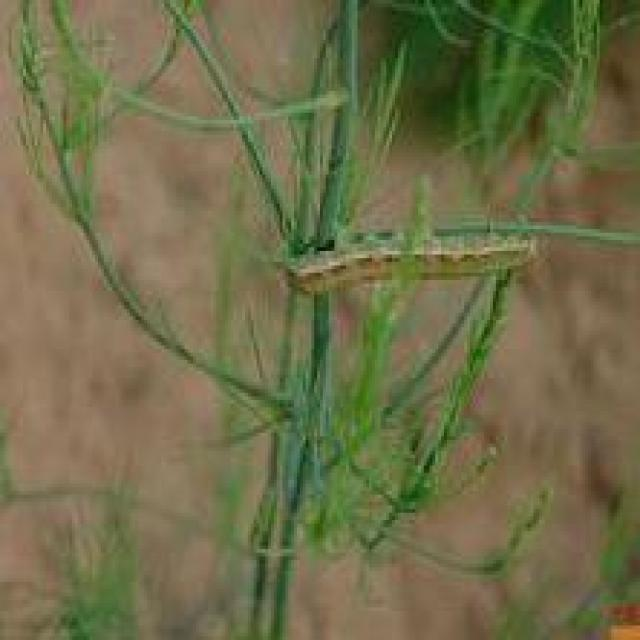BeetArmyWorm-Larva-: (280, 224, 543, 296)
